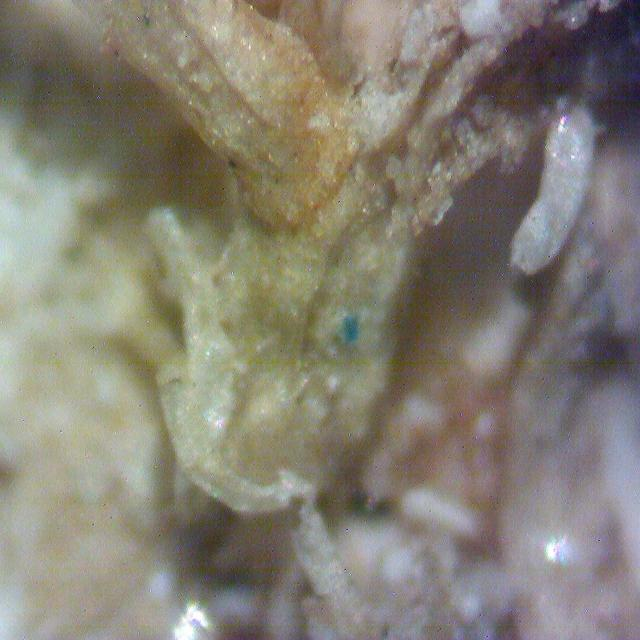microplastic: (2, 0, 626, 640)
